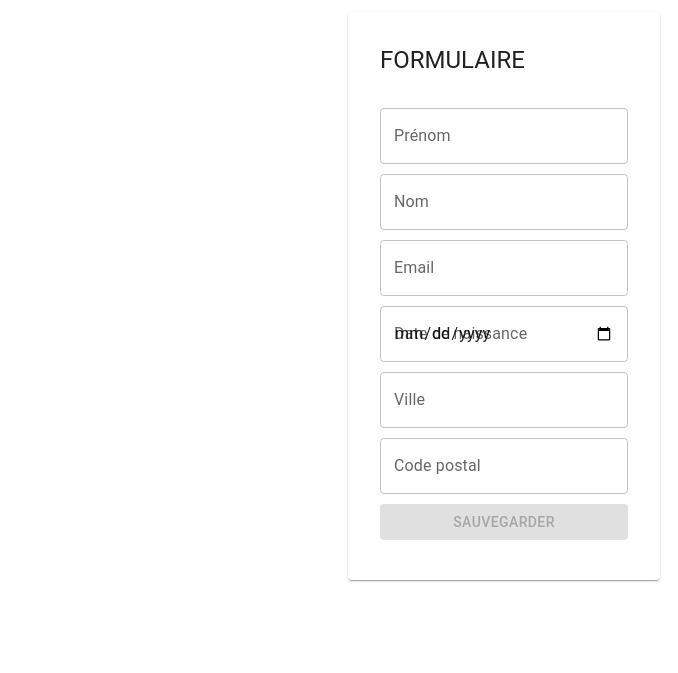
Scenario: should return false when field is empty
Type "Cécile" into the field labelled "Prénom" at (504, 136), box [380,108,628,164]
Type "Niess" into the field labelled "Nom" at (504, 202), box [380,174,628,230]
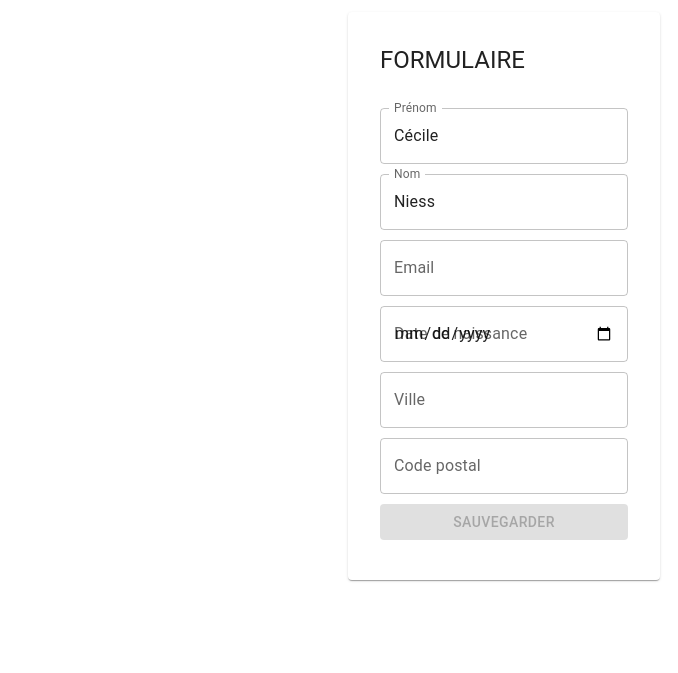
Type "test@test.fr" into the field labelled "Email" at (504, 268), box [380,240,628,296]
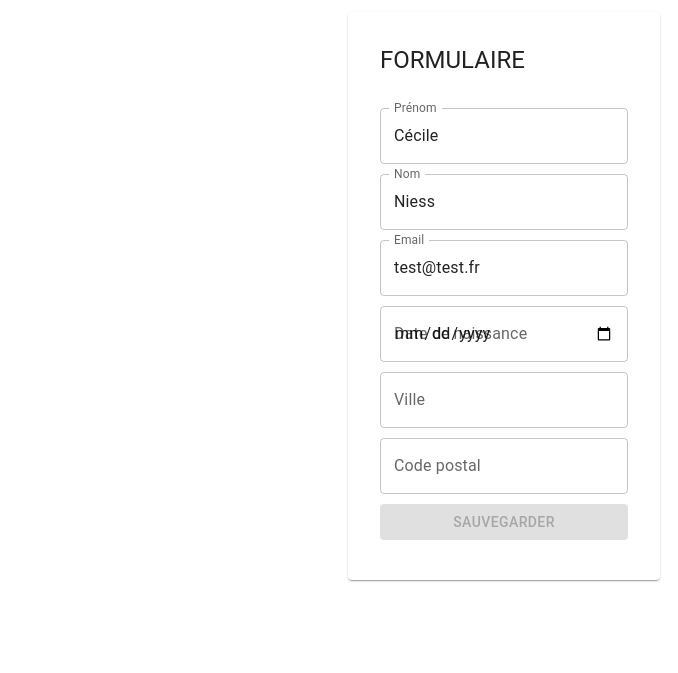
Type "1991-07-26" into the date field labelled "Date de naissance" at (504, 334), box [380,306,628,362]
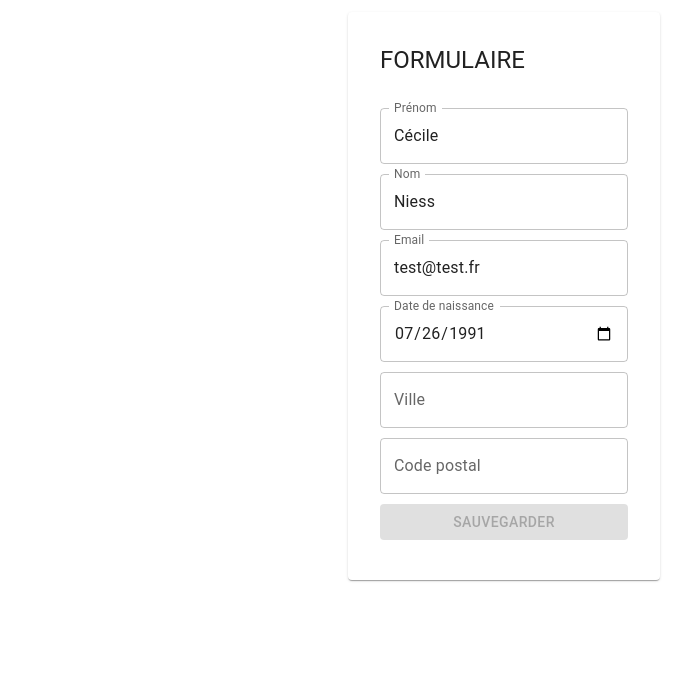
Type "Saint-laurent-du-var" into the field labelled "Ville" at (504, 400), box [380,372,628,428]
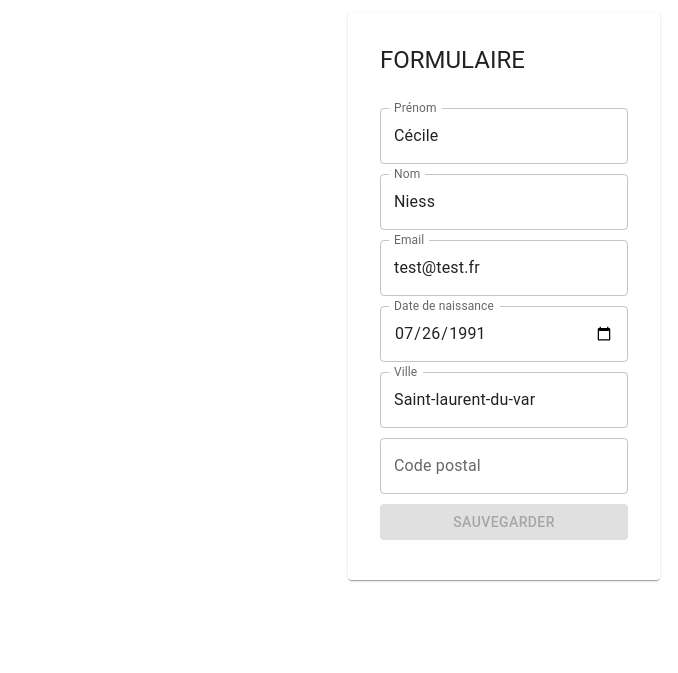
Type "06700" into the field labelled "Code postal" at (504, 466), box [380,438,628,494]
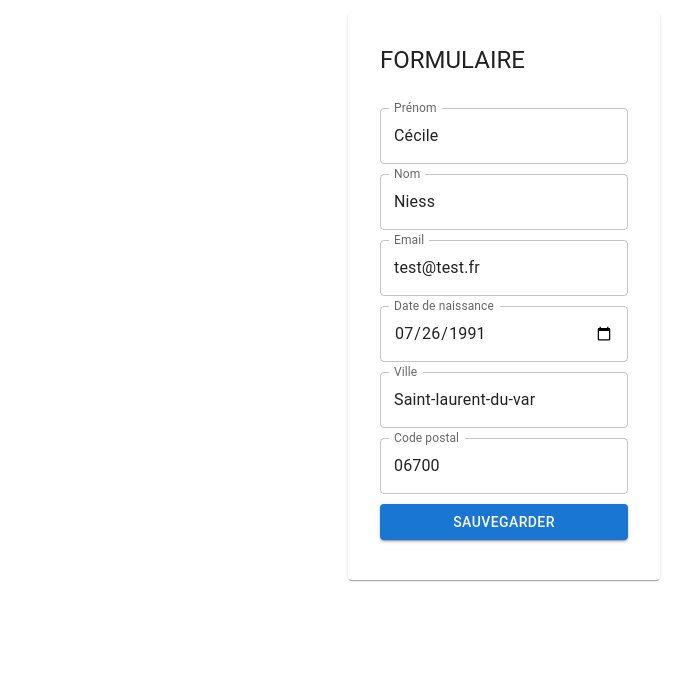
Click the button with test id "save" at (504, 522), box [380,504,628,540]
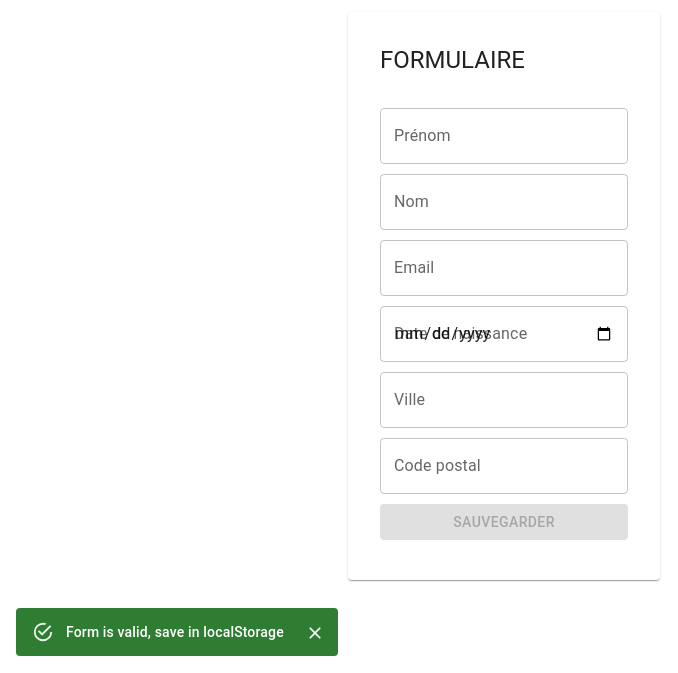
Check: the element with test id "snackbar" is shown, box [16,608,338,656]
Check: the button with test id "save" is disabled, box [380,504,628,540]
